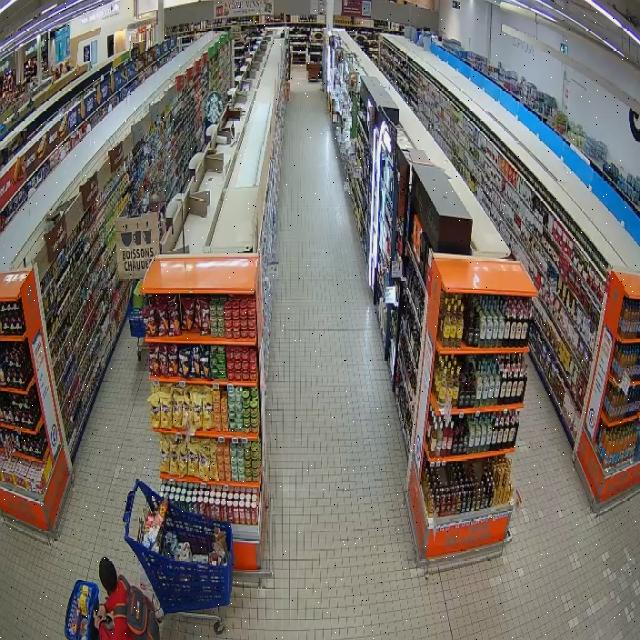bags: (114, 576, 159, 639)
hands: (94, 605, 106, 628), (98, 605, 106, 617)
person: (95, 557, 129, 639)
